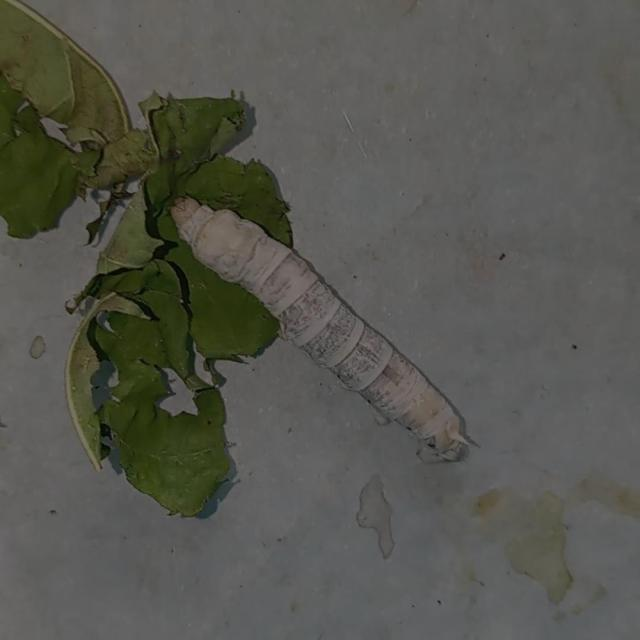Grasserie: (134, 167, 490, 498)
